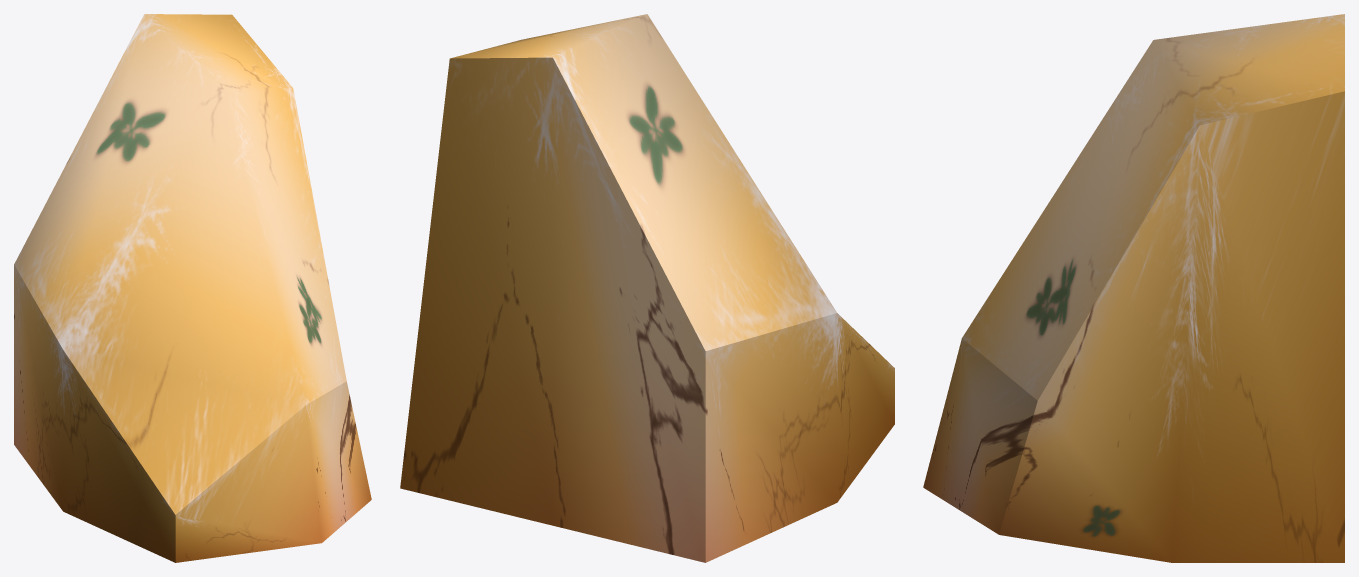
Rendered from Rock002.FBX.
3 renders of one model, left to right at view 1: azimuth 30°, elevation 25°; view 2: azimuth 150°, elevation 25°; view 3: azimuth 270°, elevation 25°, orthographic. The views are drawn at different scales.
Visible parts, largest first — view 1: Rock002; view 2: Rock002; view 3: Rock002.
Boxes of the visible parts, x1,y1,x2,y2 form: Rock002: (14, 14, 371, 562); Rock002: (400, 14, 894, 562); Rock002: (923, 14, 1344, 562).
Size of the model in its own units: 4.71 by 6.16 by 4.97.
